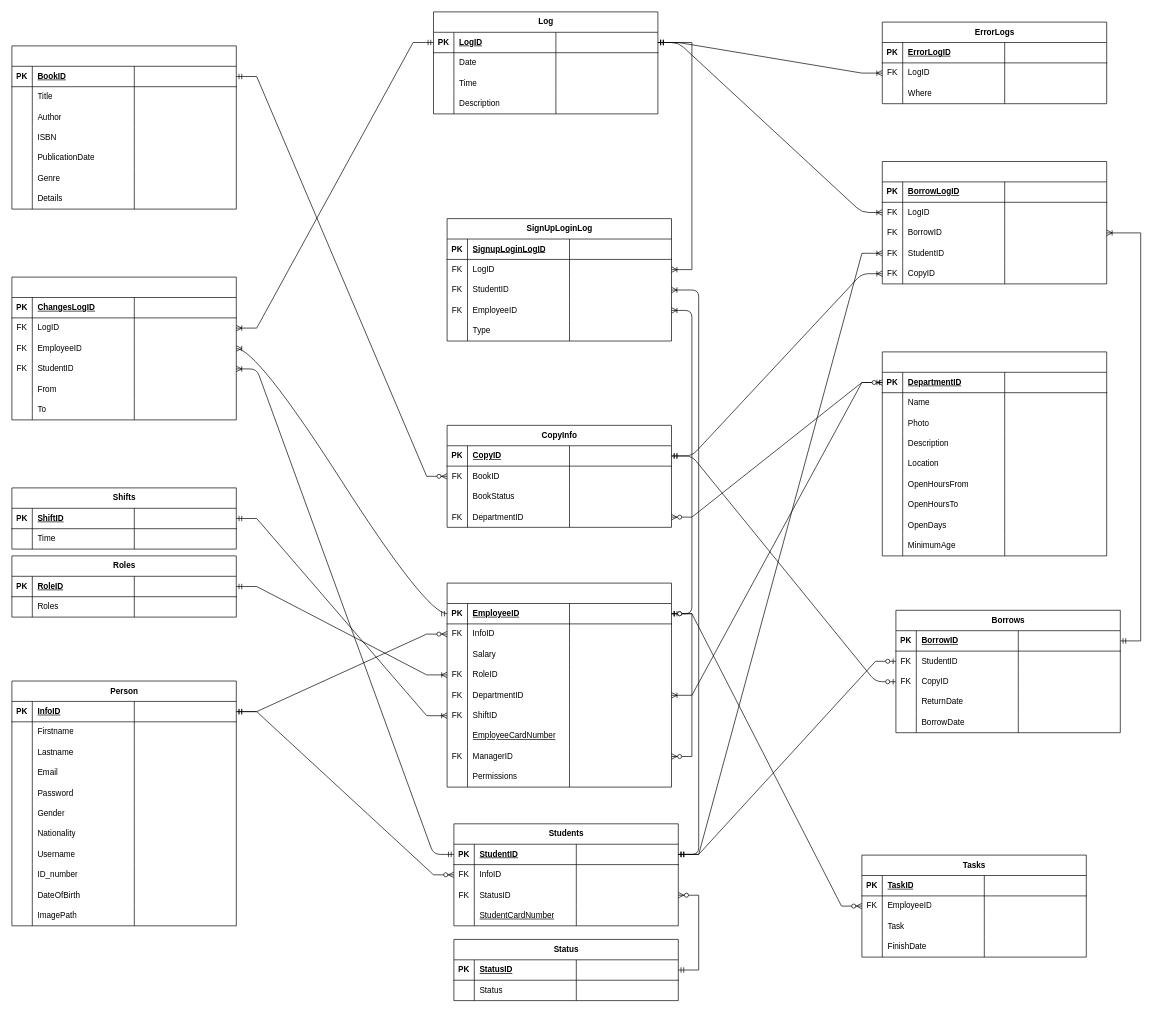
Some shapes in this 1159 by 1013 pixel diagram are drawn without their labels. The shapes that lost their labels are listed below. From the top down, each one's box as (x1, y1, x2, y2) in pixels, then its label:
(11, 45, 236, 209): BookInfo
(882, 161, 1107, 284): BorrowLogs
(11, 276, 236, 420): ChangesLogs
(882, 351, 1107, 556): Departments
(446, 582, 672, 787): Employees
